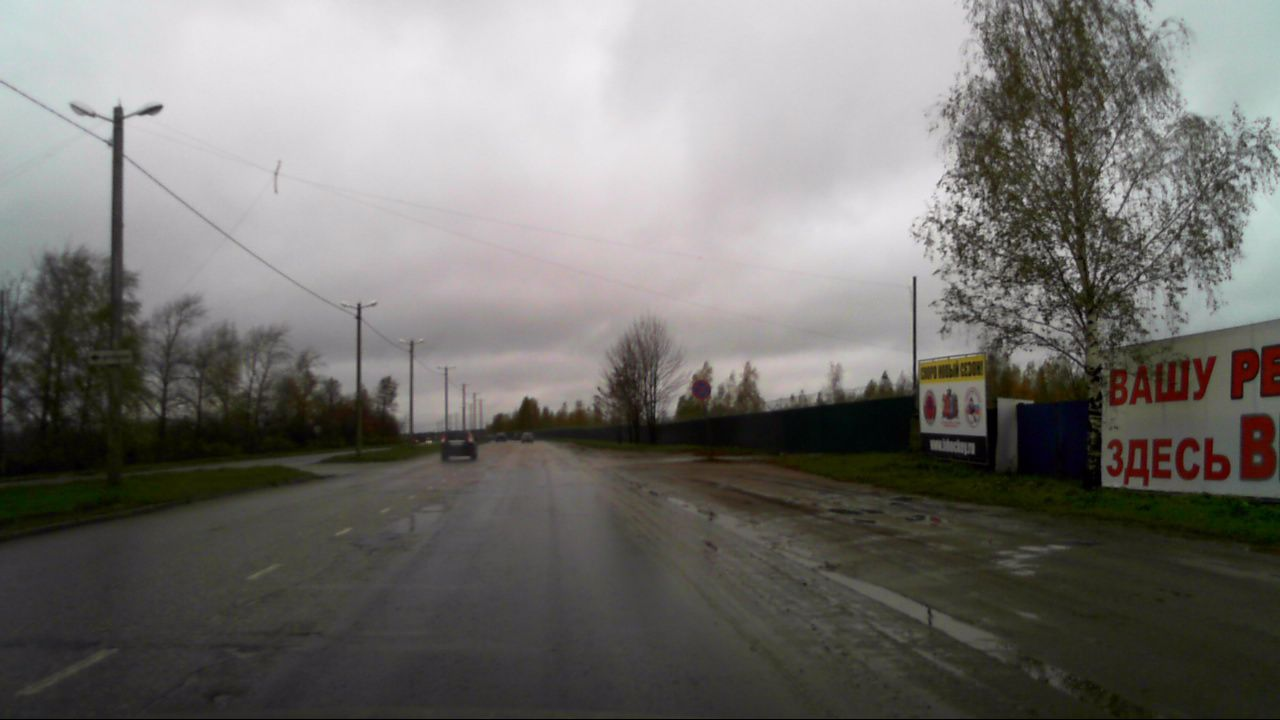No Parking: (689, 378, 713, 401)
